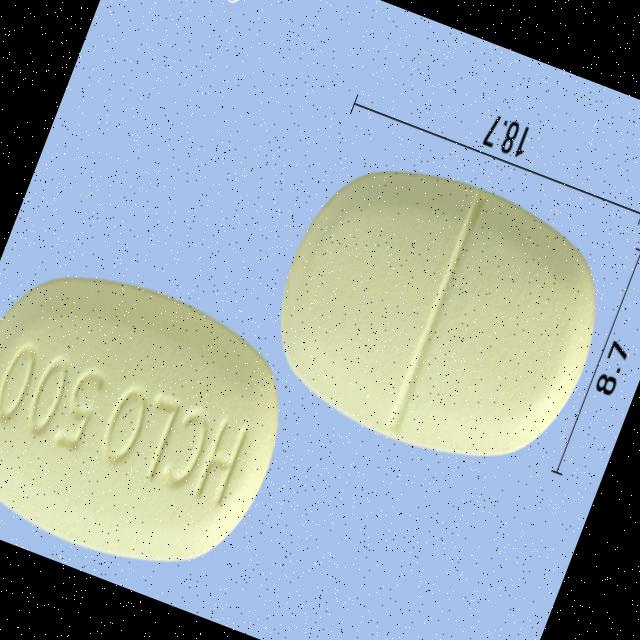Hericlo: (242, 132, 632, 498), (0, 238, 315, 602)
